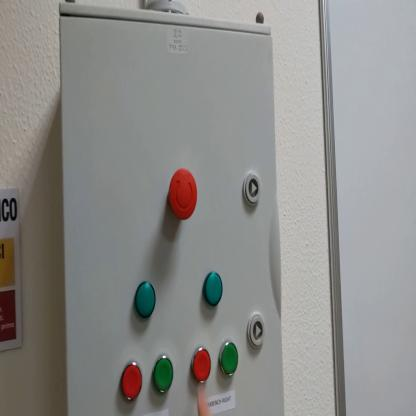hand: (198, 385, 212, 414)
left green button: (155, 353, 175, 395)
left red button: (122, 359, 143, 402)
right green button: (220, 341, 240, 379)
right red button: (191, 345, 213, 382)
